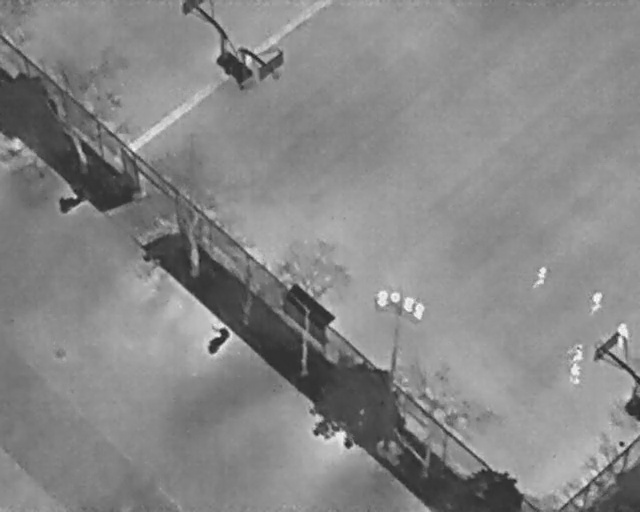Bicycle: (200, 322, 235, 358), (52, 184, 90, 216)
Person: (587, 288, 606, 317), (568, 340, 588, 367), (534, 262, 549, 290), (567, 361, 584, 385), (616, 319, 629, 350)
